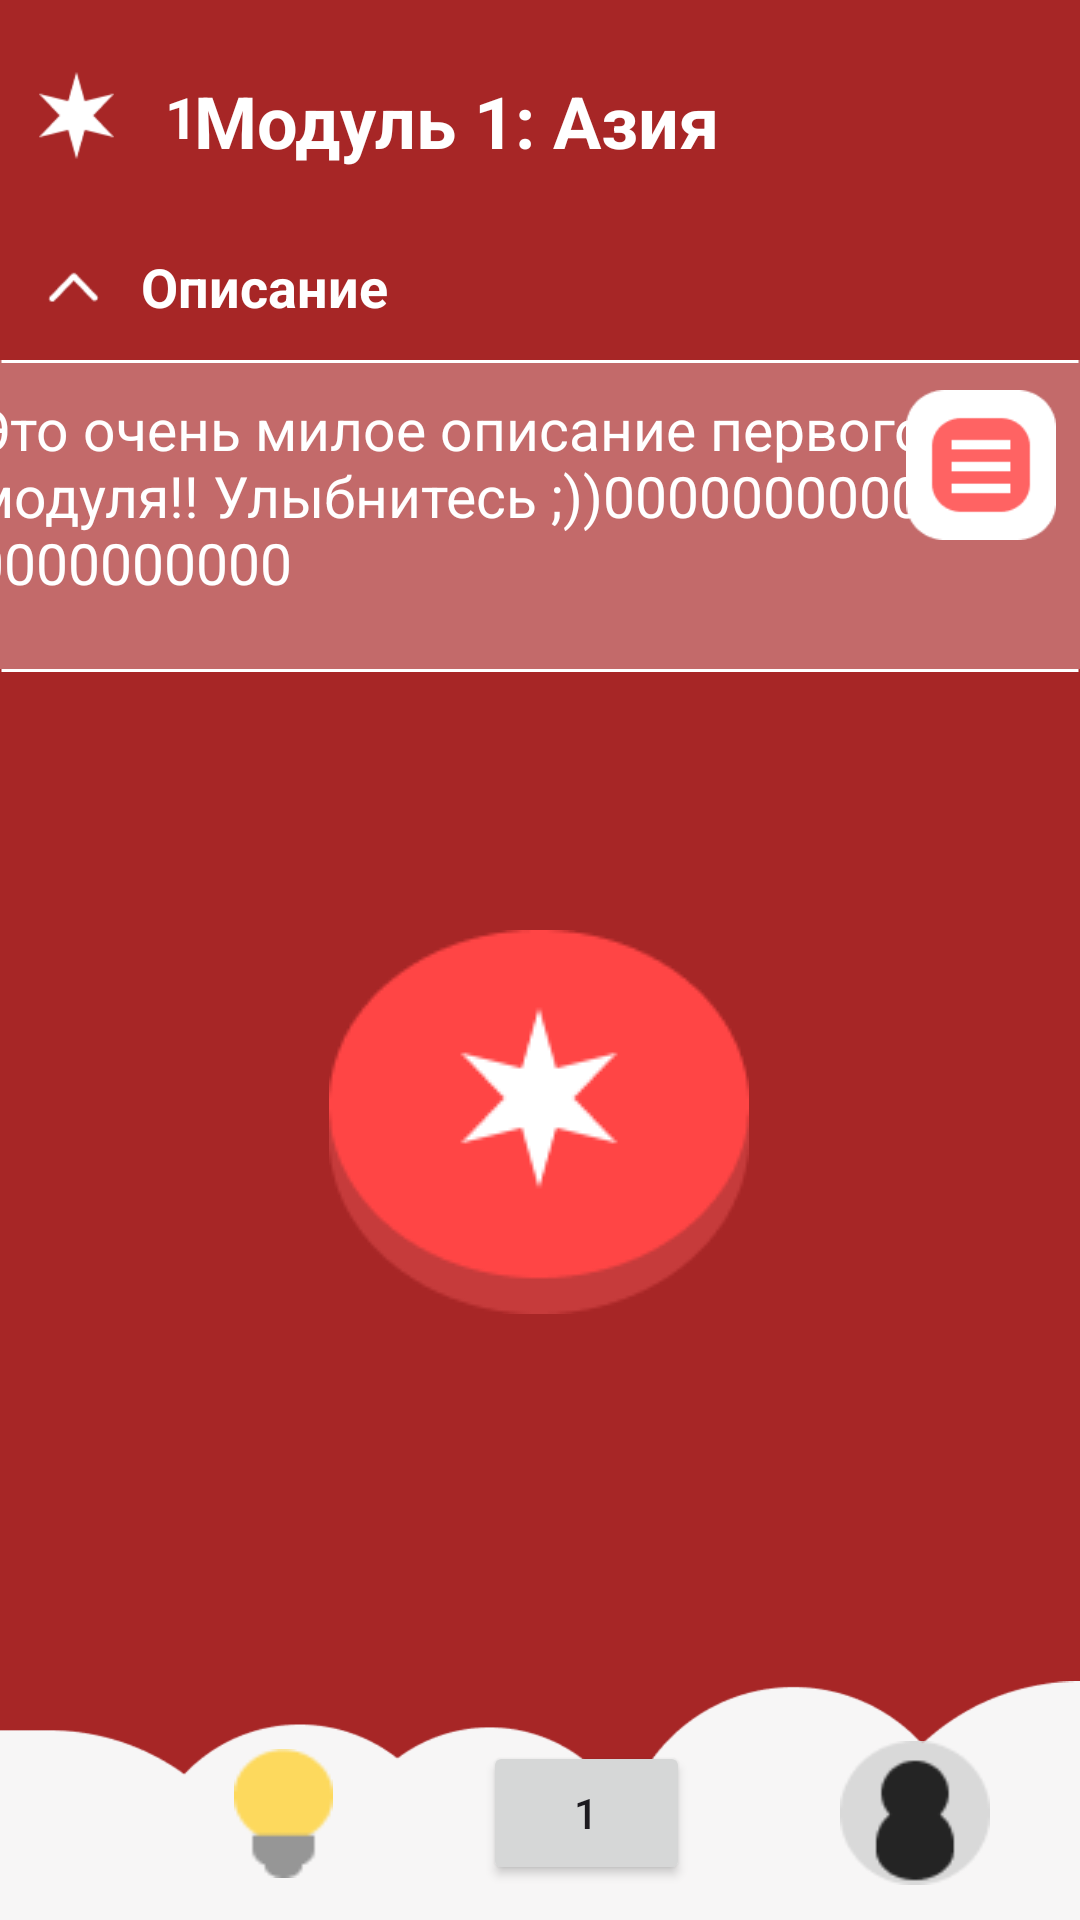

Icon click points for this 1080px x 1920px phone screenshot, format point (x, y):
profile: point (915, 1813)
spisoc: point (981, 465)
